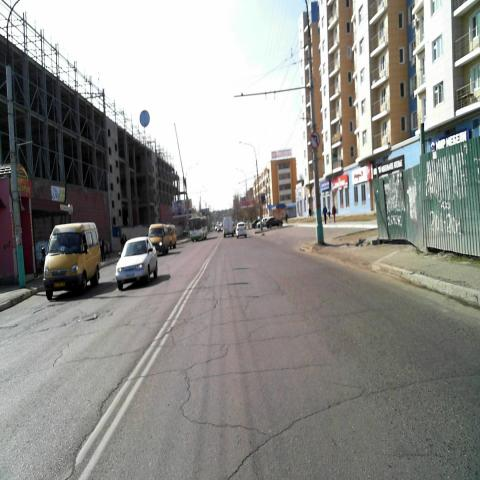3_18_2: (310, 130, 319, 148)
